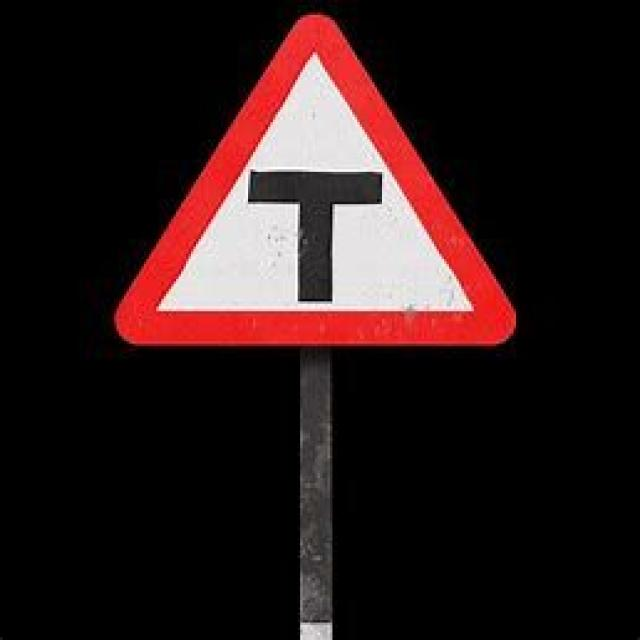T_INTERSECTION: (92, 11, 523, 356)
